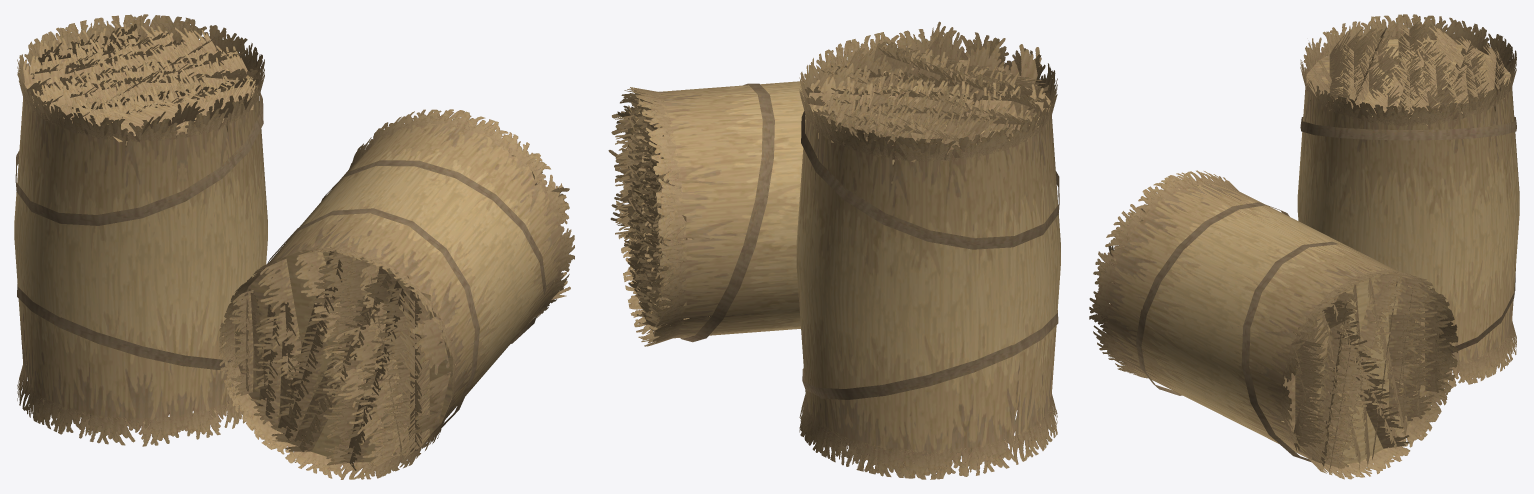
Rendered from Homeworld_Exterior_Md_Decoration_Grassstacks_02_Vo.fbx.
3 views of the same model, side by side, from view 1: azimuth 30°, elevation 25°; view 2: azimuth 150°, elevation 25°; view 3: azimuth 270°, elevation 25° (orthographic). The views are drawn at different scales.
Parts seen in each view (by area): view 1: Homeworld_Exterior_Md_Decoration_Grassstacks_02_Vo; view 2: Homeworld_Exterior_Md_Decoration_Grassstacks_02_Vo; view 3: Homeworld_Exterior_Md_Decoration_Grassstacks_02_Vo.
Boxes of the visible parts, x1,y1,x2,y2 form: Homeworld_Exterior_Md_Decoration_Grassstacks_02_Vo: [14, 14, 574, 479]; Homeworld_Exterior_Md_Decoration_Grassstacks_02_Vo: [608, 21, 1060, 479]; Homeworld_Exterior_Md_Decoration_Grassstacks_02_Vo: [1089, 14, 1519, 479].
Bounding box in the file's own units: 2.23 × 1.49 × 1.96.
1 material, 1 textured.
